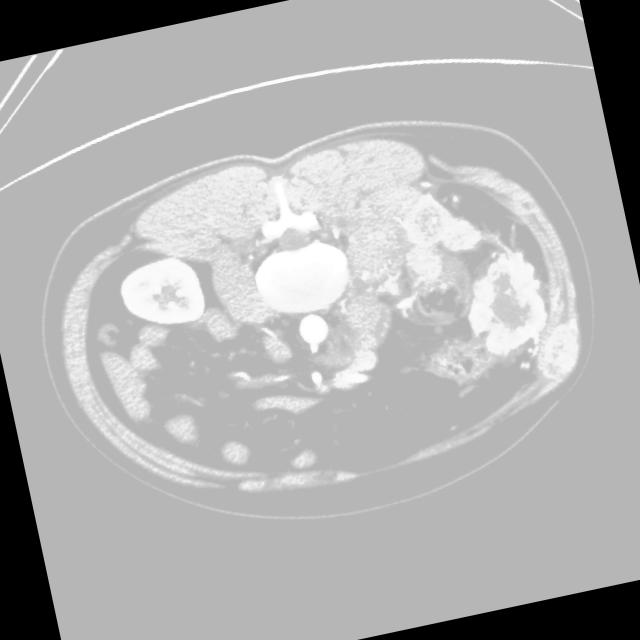TUMOR: (104, 160, 560, 503)
